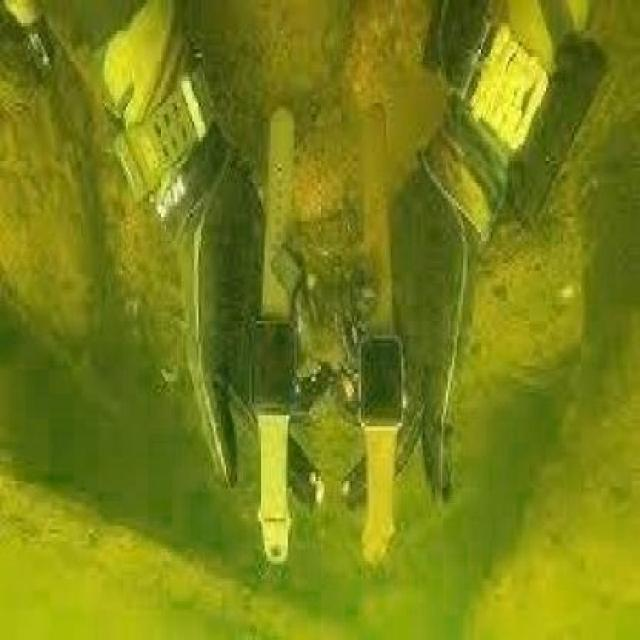electronics: (254, 106, 309, 568), (361, 107, 405, 576)
